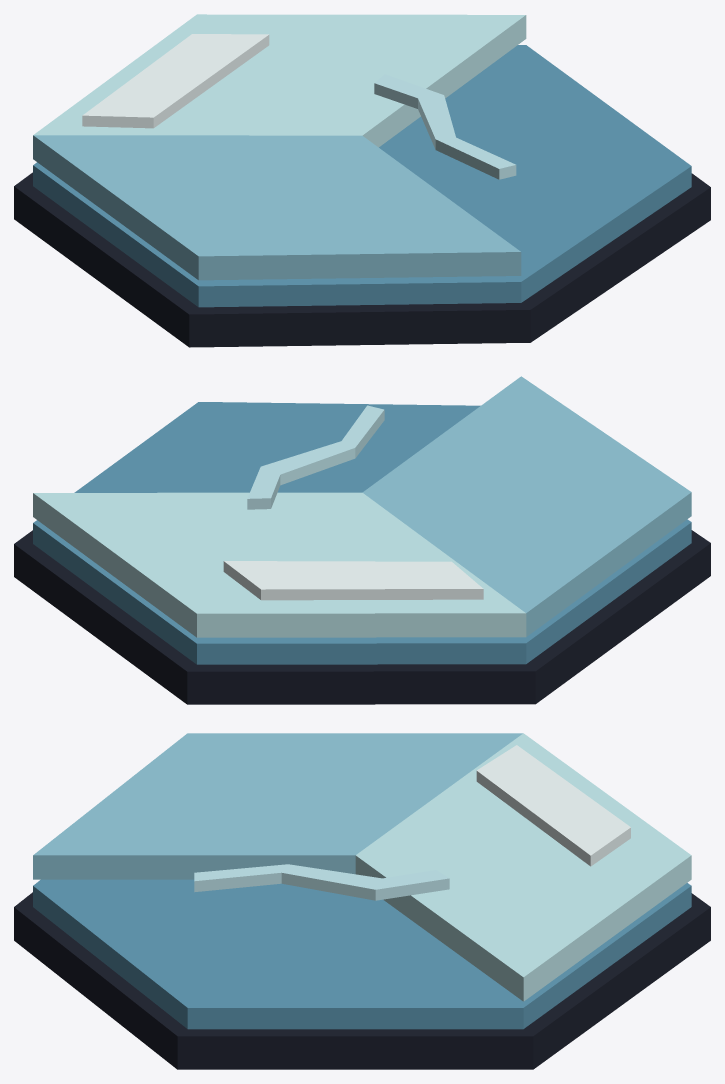
File: ice_cube.fbx
3 renders of one model, top to bottom at view 1: azimuth 30°, elevation 25°; view 2: azimuth 150°, elevation 25°; view 3: azimuth 270°, elevation 25°, orthographic.
Parts seen in each view (by area): view 1: ice_cube__Icon; view 2: ice_cube__Icon; view 3: ice_cube__Icon.
Boxes of the visible parts, box(x1,y1,x2,y2) form: ice_cube__Icon: box(14, 14, 710, 347); ice_cube__Icon: box(14, 376, 710, 704); ice_cube__Icon: box(14, 733, 710, 1069).
Bounding box in the file's own units: 0.91 × 0.178 × 1.04.
1 material, 1 textured.
